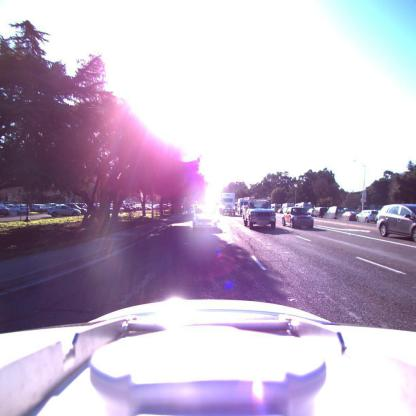car: (377, 203, 415, 243), (191, 204, 218, 232), (283, 206, 314, 230), (48, 203, 87, 217), (0, 203, 30, 218), (357, 209, 380, 222), (326, 206, 340, 222), (313, 204, 326, 221), (30, 204, 50, 214), (341, 210, 357, 222)
sign: (360, 190, 367, 203)
truck: (242, 197, 276, 231), (218, 190, 237, 218)
